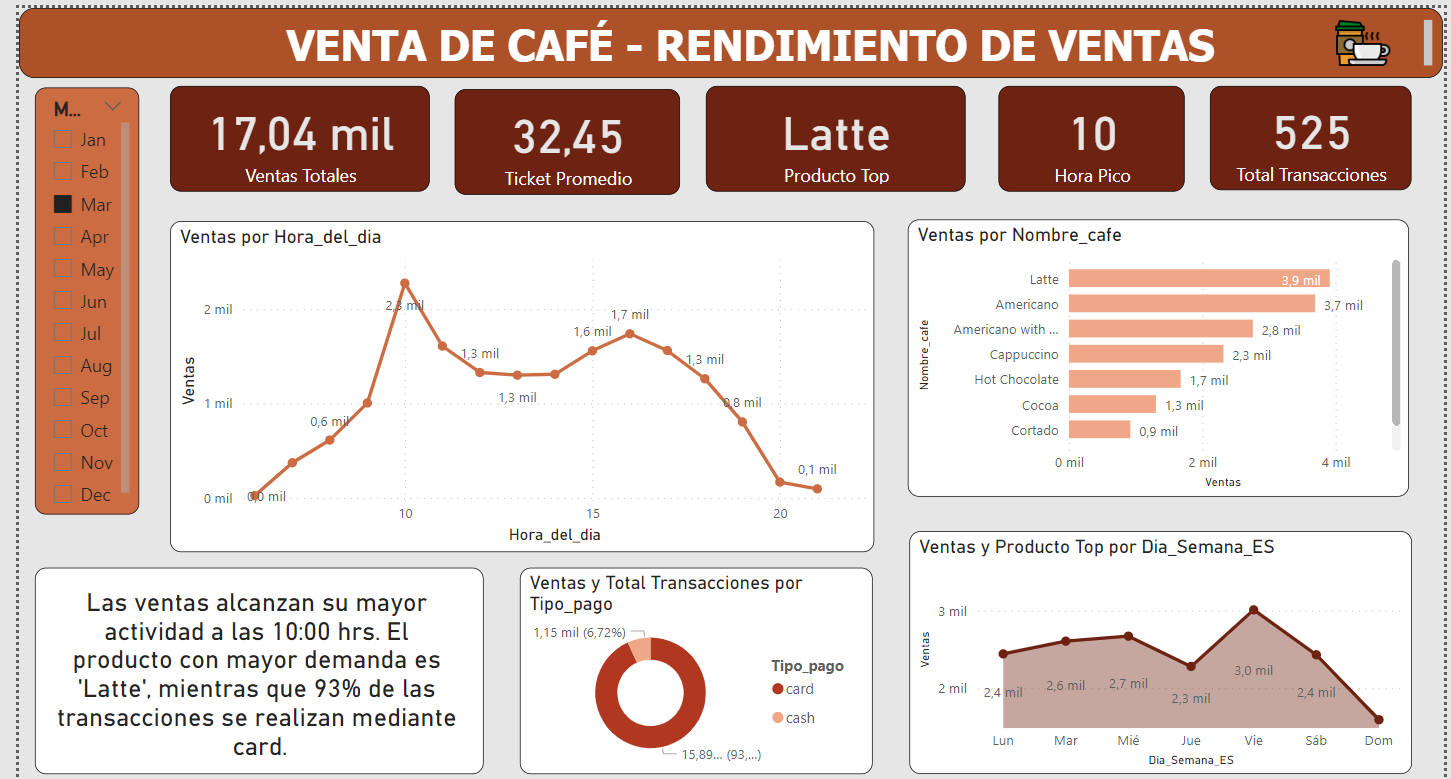

What the dashboard file says about the page in this screenshot:
{"tool":"powerbi","page":{"name":"Ventas","canvas":[1280,720],"ordinal":0},"visuals":[{"type":"textbox","box":[0,0,1279.4,63.1],"z":0},{"type":"card","fields":{"Values":["Medidas.Ventas Totales"]},"box":[135.2,70.7,233.5,95.2],"z":1000},{"type":"lineChart","fields":{"Y":["Medidas.Ventas"],"Category":["index_1.Hora_del_dia"]},"box":[135.2,191,632.5,297.3],"z":2000},{"type":"clusteredBarChart","fields":{"Category":["index_1.Nombre_cafe"],"Y":["Medidas.Ventas"]},"box":[798.7,190.5,450.1,248.8],"z":3000},{"type":"donutChart","fields":{"Category":["index_1.Tipo_pago"],"Y":["Medidas.Ventas"]},"box":[450.5,502.8,317.2,185.6],"z":4000},{"type":"slicer","fields":{"Values":["index_1.Nombre_del_mes"]},"box":[14.4,72.1,93.7,383.8],"z":5000},{"type":"image","box":[1167.7,0,81.1,63.1],"z":6000},{"type":"card","fields":{"Values":["Medidas.Ticket Promedio"]},"box":[391.7,72.2,202.8,95.2],"z":7000},{"type":"card","fields":{"Values":["Medidas.Producto Top"]},"box":[617.5,70.7,233.5,95.2],"z":8000},{"type":"card","fields":{"Values":["Medidas.Hora Pico"]},"box":[880.2,70.7,167.4,95.2],"z":9000},{"type":"card","fields":{"Values":["Medidas.Insight Ventas"]},"box":[14.3,502.9,402.9,185.7],"z":10000},{"type":"card","fields":{"Values":["Medidas.Total Transacciones"]},"box":[1070.6,70.7,181.3,93.7],"z":11000},{"type":"stackedAreaChart","fields":{"Y":["Medidas.Ventas"],"Category":["index_1.Dia_Semana_ES"]},"box":[800.3,470,451.6,218.1],"z":12000}]}

Visuals, with their boxes in screenshot pixels (x1, y1, x2, y2):
textbox: (19, 0, 1433, 70)
card - Medidas.Ventas Totales: (168, 78, 426, 183)
lineChart - Medidas.Ventas x index_1.Hora_del_dia: (168, 211, 867, 540)
clusteredBarChart - index_1.Nombre_cafe x Medidas.Ventas: (902, 211, 1399, 486)
donutChart - index_1.Tipo_pago x Medidas.Ventas: (517, 556, 867, 761)
slicer - index_1.Nombre_del_mes: (35, 80, 138, 504)
image: (1310, 0, 1399, 70)
card - Medidas.Ticket Promedio: (452, 80, 676, 185)
card - Medidas.Producto Top: (701, 78, 960, 183)
card - Medidas.Hora Pico: (992, 78, 1177, 183)
card - Medidas.Insight Ventas: (35, 556, 480, 761)
card - Medidas.Total Transacciones: (1202, 78, 1403, 182)
stackedAreaChart - Medidas.Ventas x index_1.Dia_Semana_ES: (904, 520, 1403, 761)
